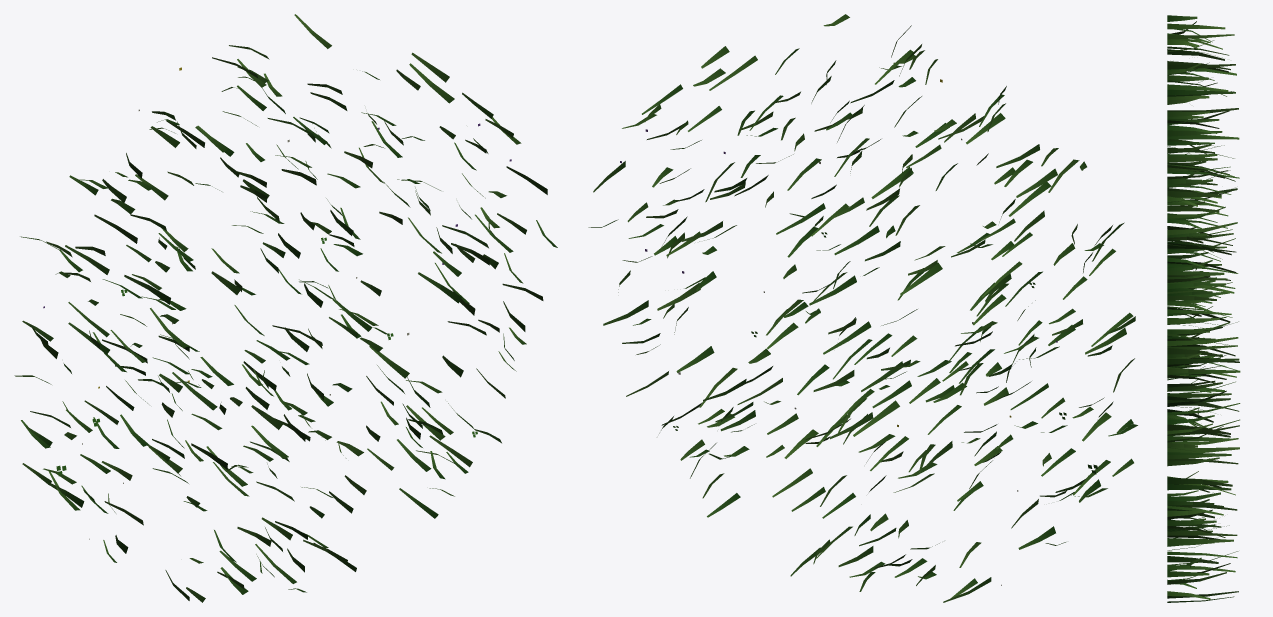
File: Grass_Tile_NorthWoods.glb
The picture shows the model from 3 angles, left to right: view 1: azimuth 30°, elevation 25°; view 2: azimuth 150°, elevation 25°; view 3: azimuth 270°, elevation 25°; orthographic projection. The views are drawn at different scales.
Parts seen in each view (by area): view 1: Grass_Tile_NorthWoods; view 2: Grass_Tile_NorthWoods; view 3: Grass_Tile_NorthWoods.
Part boxes in pixels (x1=…): Grass_Tile_NorthWoods: x1=14, y1=14, x2=557, y2=602; Grass_Tile_NorthWoods: x1=588, y1=14, x2=1137, y2=602; Grass_Tile_NorthWoods: x1=1167, y1=15, x2=1240, y2=602.
Size of the model in its own units: 1.38 by 1.42 by 0.2123.
